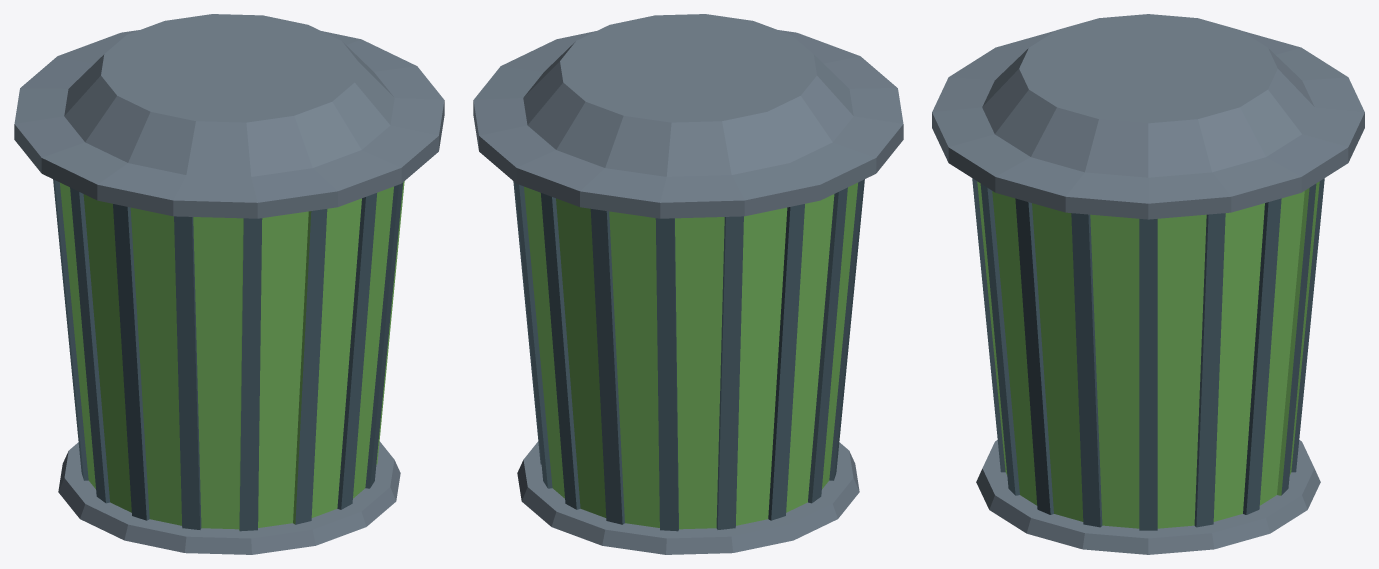
The model's file is Lampe.fbx.
3 renders of one model, left to right at view 1: azimuth 30°, elevation 25°; view 2: azimuth 150°, elevation 25°; view 3: azimuth 270°, elevation 25°, orthographic.
Parts seen in each view (by area): view 1: Cylinder.007; view 2: Cylinder.007; view 3: Cylinder.007.
Part boxes in pixels (<box>): Cylinder.007: <box>14,14,444,554</box>; Cylinder.007: <box>473,14,903,554</box>; Cylinder.007: <box>932,14,1364,554</box>.
Bounding box in the file's own units: 174 × 183 × 174.
